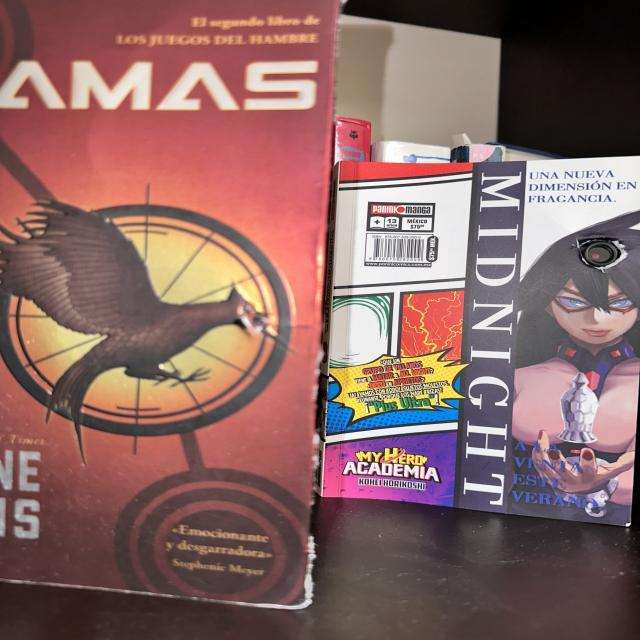hidden camera: (585, 242, 618, 266), (252, 317, 264, 326)
